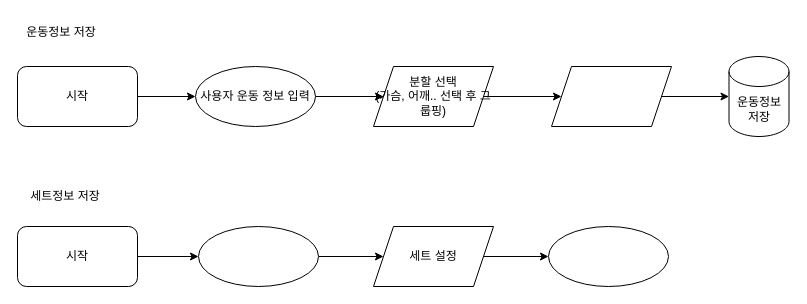
The diagram is 807 pixels wide and 304 high, and some of its shapes have lost their labels. Here are the shapes that lost their labels. From the top down, the box of each, then its label:
(550, 66, 672, 126): 운동 선택 (머신, 운동)
(198, 226, 318, 286): 운동 체크 정보 입력
(548, 226, 668, 286): 세트체크
